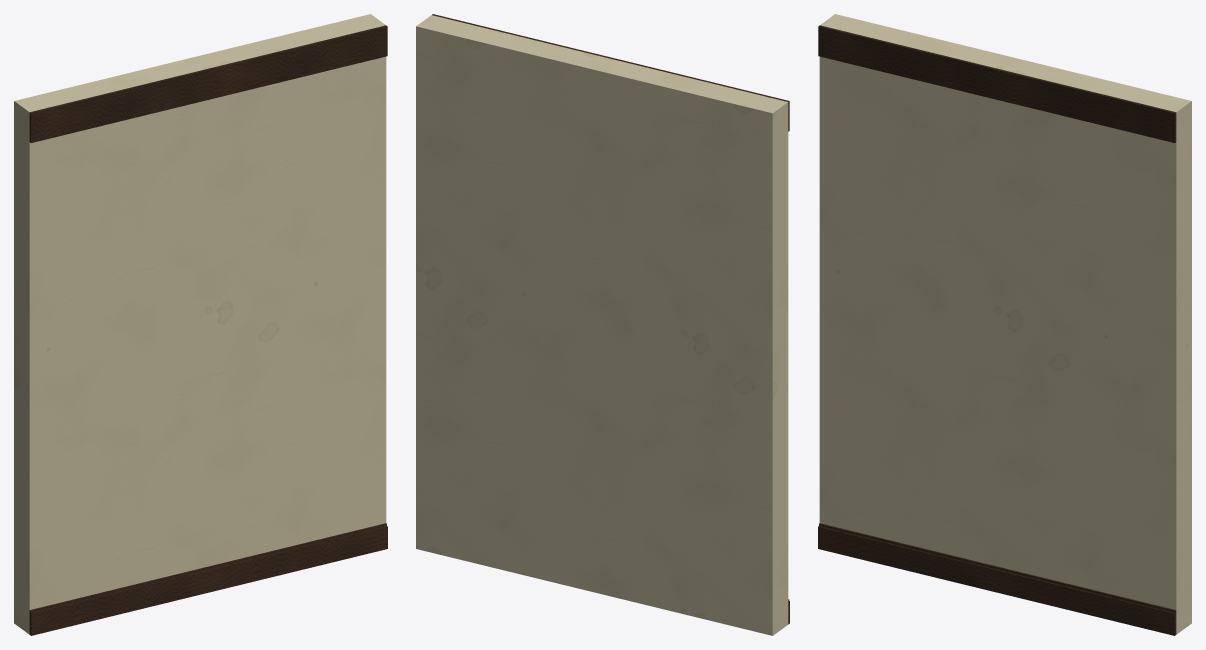
File: Wall_Plain_200.glb
3 views of the same model, side by side, from view 1: azimuth 30°, elevation 25°; view 2: azimuth 150°, elevation 25°; view 3: azimuth 330°, elevation 25° (orthographic).
Parts seen in each view (by area): view 1: Wall_Plain_200; view 2: Wall_Plain_200; view 3: Wall_Plain_200.
Part boxes in pixels (bbox=[...]): Wall_Plain_200: bbox=[14, 14, 387, 635]; Wall_Plain_200: bbox=[416, 14, 789, 635]; Wall_Plain_200: bbox=[818, 14, 1191, 635].
Bounding box in the file's own units: 2 × 2.8 × 0.166.
Materials: 2 (2 with a texture image).
